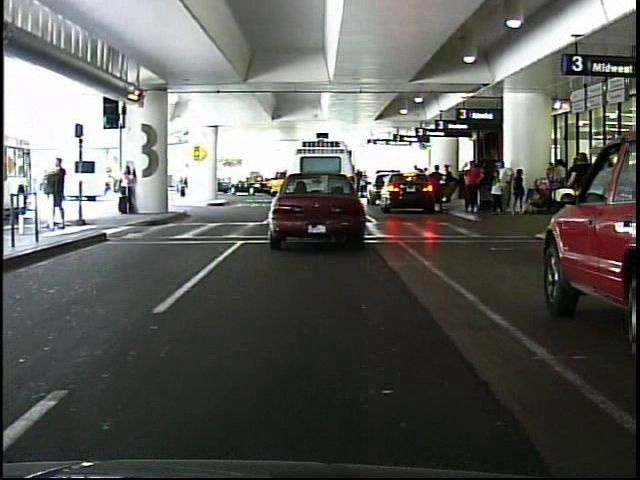person: (566, 148, 601, 228), (48, 152, 73, 234), (118, 161, 139, 217), (169, 159, 195, 202), (464, 160, 482, 215)
